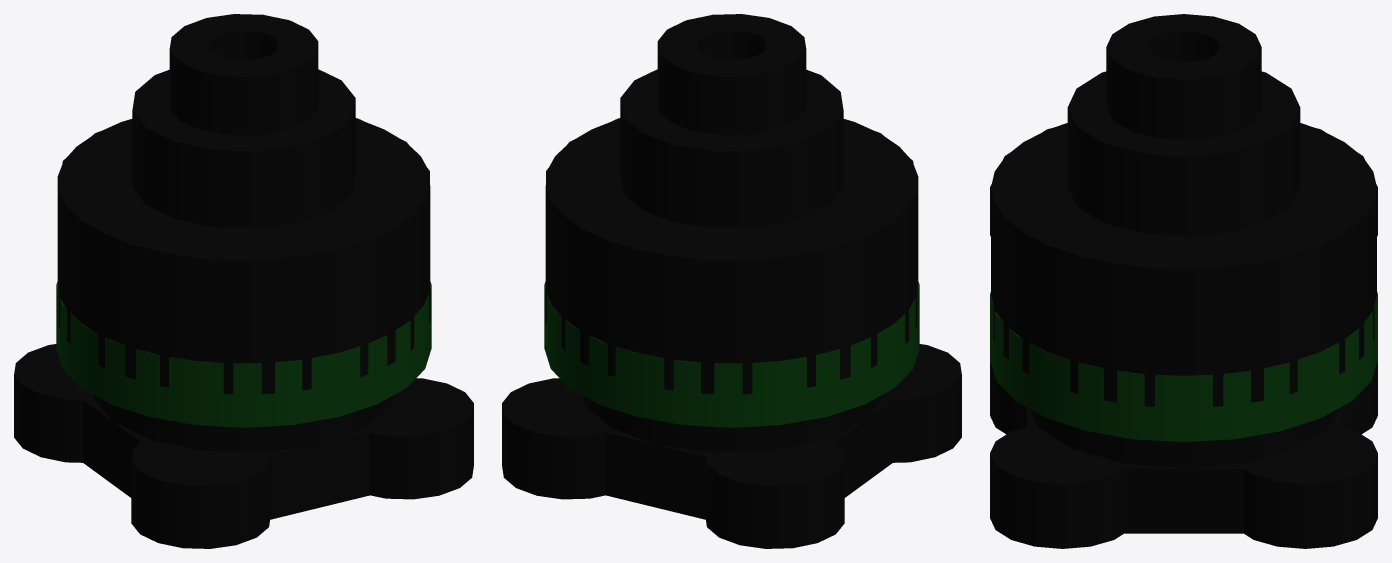
The model's file is Laser.dae.
3 renders of one model, left to right at view 1: azimuth 30°, elevation 25°; view 2: azimuth 150°, elevation 25°; view 3: azimuth 270°, elevation 25°, orthographic. The views are drawn at different scales.
Visible parts, largest first — view 1: Part_33286.2, Part_20482.1, Part_97053p1.3; view 2: Part_33286.2, Part_20482.1, Part_97053p1.3; view 3: Part_33286.2, Part_20482.1, Part_97053p1.3.
Boxes of the visible parts, left/top/right/bottom form: Part_33286.2: left=14, top=69, right=473, bottom=548; Part_20482.1: left=57, top=14, right=430, bottom=394; Part_97053p1.3: left=56, top=281, right=431, bottom=427; Part_33286.2: left=502, top=69, right=961, bottom=548; Part_20482.1: left=545, top=14, right=918, bottom=394; Part_97053p1.3: left=544, top=281, right=919, bottom=427; Part_33286.2: left=990, top=71, right=1377, bottom=548; Part_20482.1: left=991, top=14, right=1376, bottom=406; Part_97053p1.3: left=990, top=292, right=1377, bottom=441.
Bounding box in the file's own units: 8 × 9.56 × 8.
